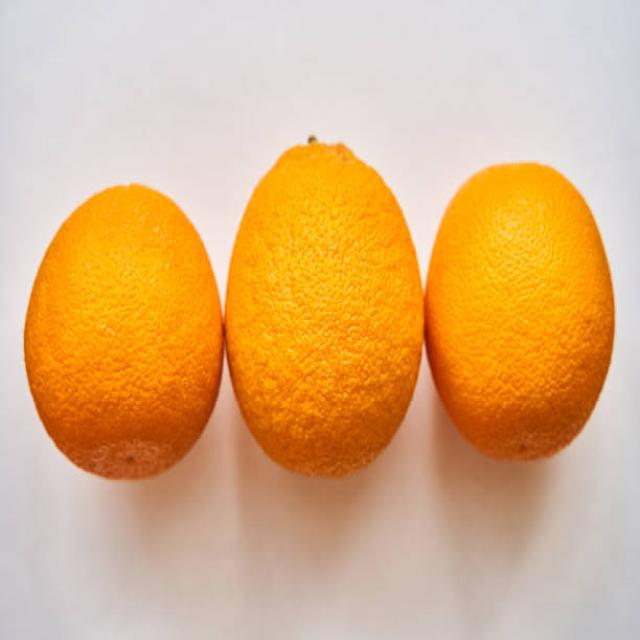Good_Orange: (224, 140, 425, 480), (22, 184, 227, 483), (422, 163, 616, 464)
